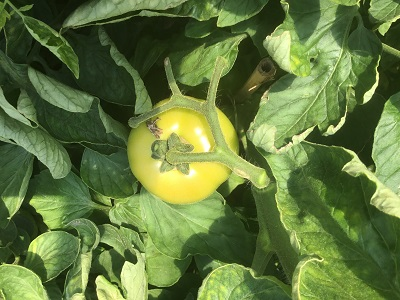immature-tomato: (126, 92, 239, 206)
